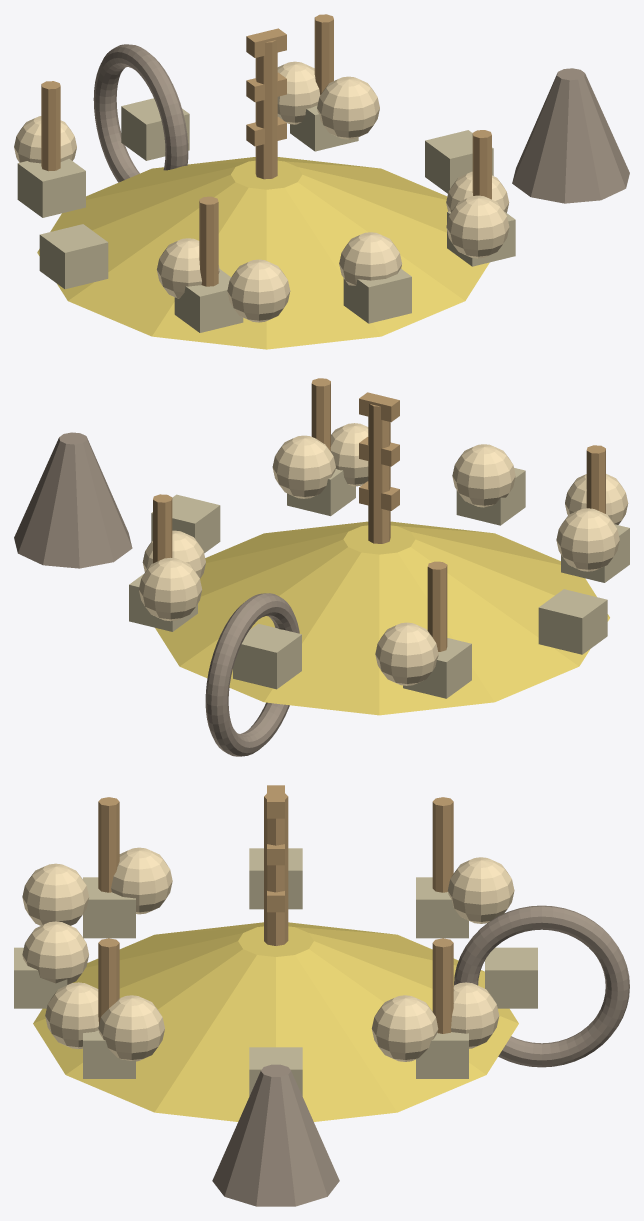
File: mine_gold.glb
The picture shows the model from 3 angles, top to bottom: view 1: azimuth 30°, elevation 25°; view 2: azimuth 150°, elevation 25°; view 3: azimuth 270°, elevation 25°; orthographic projection. The views are drawn at different scales.
Parts seen in each view (by area): view 1: mine_gold_lumpur.001, mine_gold_terowongan.001, mine_gold_guling.001, mine_gold_rim_4.001, mine_gold_rim_3.001, mine_gold_merek_7.001, mine_gold_merek_5.001, mine_gold_merek_0.001, mine_gold_rim_6.001, mine_gold_tangga.001, mine_gold_rim_5.001, mine_gold_merek_3.001 (+15 smaller); view 2: mine_gold_lumpur.001, mine_gold_terowongan.001, mine_gold_guling.001, mine_gold_rim_4.001, mine_gold_rim_2.001, mine_gold_merek_6.001, mine_gold_merek_2.001, mine_gold_merek_1.001, mine_gold_merek_3.001, mine_gold_merek_4.001, mine_gold_tangga.001, mine_gold_rim_3.001 (+15 smaller); view 3: mine_gold_lumpur.001, mine_gold_terowongan.001, mine_gold_guling.001, mine_gold_merek_2.001, mine_gold_merek_0.001, mine_gold_merek_4.001, mine_gold_merek_5.001, mine_gold_merek_3.001, mine_gold_rim_2.001, mine_gold_merek_6.001, mine_gold_merek_7.001, mine_gold_tangga.001 (+13 smaller).
Part boxes in pixels (box(x1,y1,x2,y2)): mine_gold_lumpur.001: box(37, 157, 489, 349); mine_gold_terowongan.001: box(512, 68, 629, 203); mine_gold_guling.001: box(93, 44, 188, 182); mine_gold_rim_4.001: box(39, 224, 108, 289); mine_gold_rim_3.001: box(17, 159, 85, 217); mine_gold_merek_7.001: box(446, 195, 509, 258); mine_gold_merek_5.001: box(227, 259, 290, 322); mine_gold_merek_0.001: box(317, 76, 379, 139); mine_gold_rim_6.001: box(343, 268, 411, 323); mine_gold_tangga.001: box(255, 40, 277, 179); mine_gold_rim_5.001: box(174, 269, 243, 332); mine_gold_merek_3.001: box(339, 232, 402, 285); mine_gold_lumpur.001: box(155, 521, 609, 715); mine_gold_terowongan.001: box(14, 432, 132, 568); mine_gold_guling.001: box(205, 593, 299, 756); mine_gold_rim_4.001: box(538, 589, 607, 654); mine_gold_rim_2.001: box(233, 623, 301, 689); mine_gold_merek_6.001: box(556, 508, 619, 571); mine_gold_merek_2.001: box(375, 622, 438, 685); mine_gold_merek_1.001: box(139, 557, 202, 621); mine_gold_merek_3.001: box(452, 444, 515, 507); mine_gold_merek_4.001: box(272, 435, 335, 498); mine_gold_tangga.001: box(368, 404, 390, 543); mine_gold_rim_3.001: box(403, 638, 471, 698); mine_gold_lumpur.001: box(33, 922, 518, 1121); mine_gold_terowongan.001: box(212, 1064, 339, 1206); mine_gold_guling.001: box(454, 905, 629, 1067); mine_gold_merek_2.001: box(447, 857, 514, 923); mine_gold_merek_0.001: box(371, 995, 438, 1061); mine_gold_merek_4.001: box(98, 995, 164, 1061); mine_gold_merek_5.001: box(22, 863, 88, 925); mine_gold_merek_3.001: box(22, 921, 88, 984); mine_gold_rim_2.001: box(485, 947, 537, 1008); mine_gold_merek_6.001: box(111, 847, 172, 914); mine_gold_merek_7.001: box(45, 982, 98, 1049); mine_gold_tangga.001: box(264, 793, 288, 945).
Bounding box in the file's own units: 4.57 × 1.98 × 4.06.
